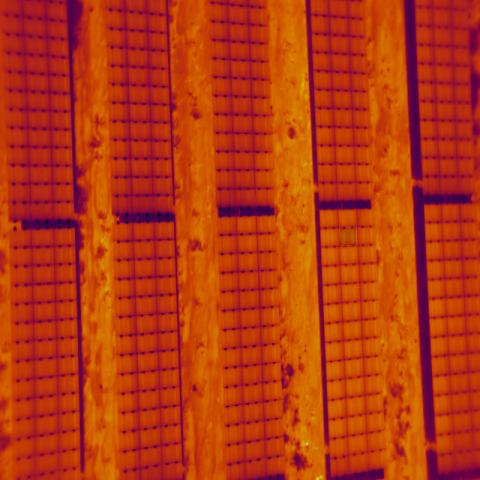fault: (340, 228, 356, 245)
